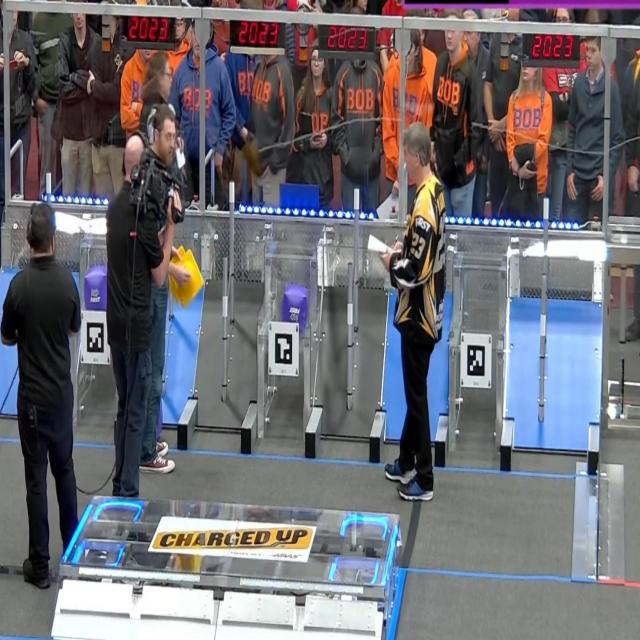frc_cone: (170, 250, 203, 308), (168, 247, 184, 287)
frc_cube: (283, 284, 307, 325), (84, 266, 107, 308)
